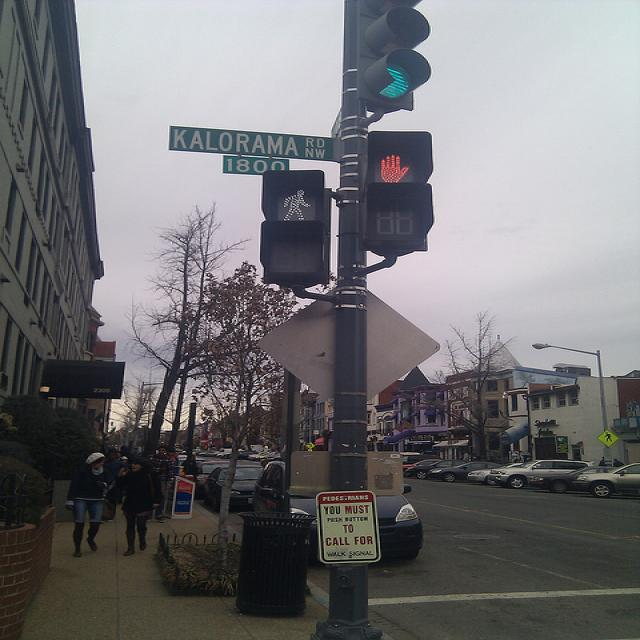Vehicle: (254, 461, 424, 560), (488, 460, 590, 489), (204, 466, 263, 510), (530, 466, 619, 494), (571, 462, 640, 498), (428, 461, 504, 482), (404, 460, 470, 480), (467, 462, 525, 481), (400, 458, 443, 471), (248, 451, 272, 461), (215, 448, 233, 458), (199, 451, 219, 457)
